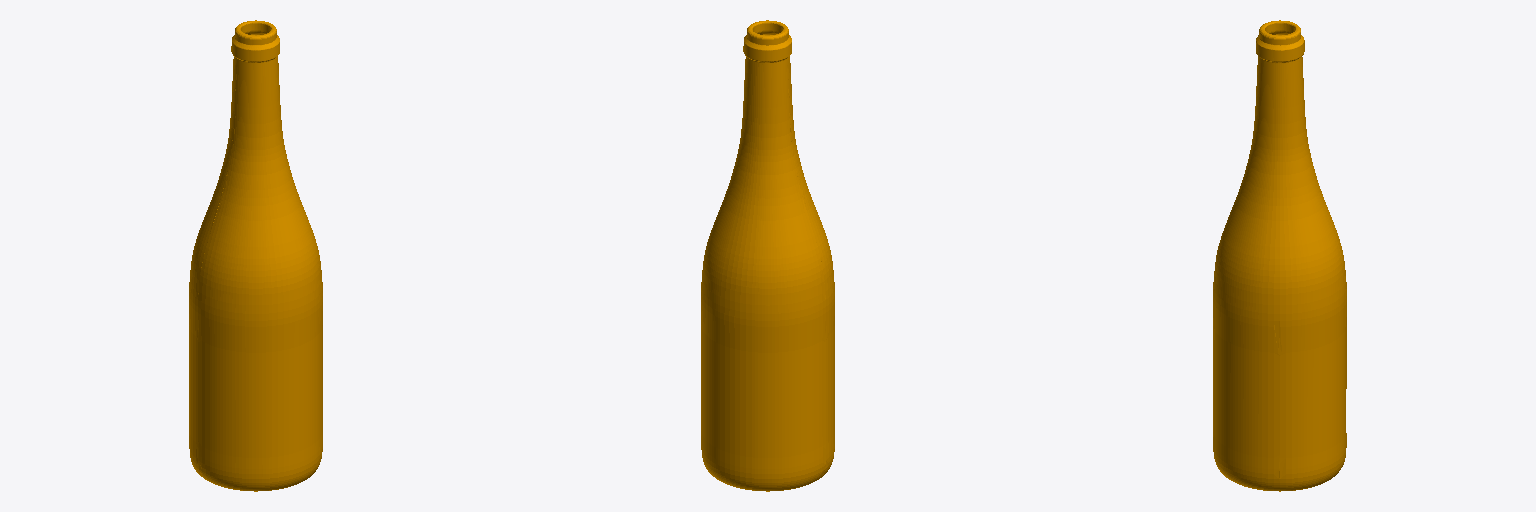
The robot description file, URDF, robot "apple":
<?xml version="0.0" ?>
<robot name="apple">
  <link name="baseLink">
    <contact>
      <lateral_friction value="1.0"/>
      <rolling_friction value="0.0"/>
      <contact_cfm value="0.0"/>
      <contact_erp value="1.0"/>
    </contact>
    <inertial>
      <origin rpy="0 0 0" xyz="0.0 0.0 0.16"/>
       <mass value=".1"/>
       <inertia ixx="1" ixy="0" ixz="0" iyy="1" iyz="0" izz="1"/>
    </inertial>
    <visual>
      <origin rpy="1.57 0 0" xyz="0 0 0.16"/>
      <geometry>
        <mesh filename="meshes/bottle/bottle1.obj" scale="0.0015 0.0015 0.0015" />
      </geometry>

    </visual>
    <collision>
      <origin rpy="1.57 0 0" xyz="0 0 0.16"/>
      <geometry>
	 	<mesh filename="meshes/bottle/bottle1.obj" scale="0.0015 0.0015 0.0015"/>
      </geometry>
    </collision>
  </link>
</robot>

--- Facts derived from the render (not from the file) ---
3 views of the same robot in one strip: view 1: azimuth 30°, elevation 25°; view 2: azimuth 150°, elevation 25°; view 3: azimuth 270°, elevation 25° (orthographic).
Robot: apple — 1 links, 0 joints (none); root link baseLink; default pose: every joint at zero.
Visible links, largest first — view 1: baseLink; view 2: baseLink; view 3: baseLink.
Boxes of the visible links, left/top/right/bottom form: baseLink: left=189, top=20, right=322, bottom=491; baseLink: left=701, top=20, right=834, bottom=491; baseLink: left=1213, top=20, right=1346, bottom=491.
Size in the robot's own frame: 0.0861 by 0.0861 by 0.3111 metres.
1 mesh visuals loaded from 1 distinct referenced files (1 OBJ).